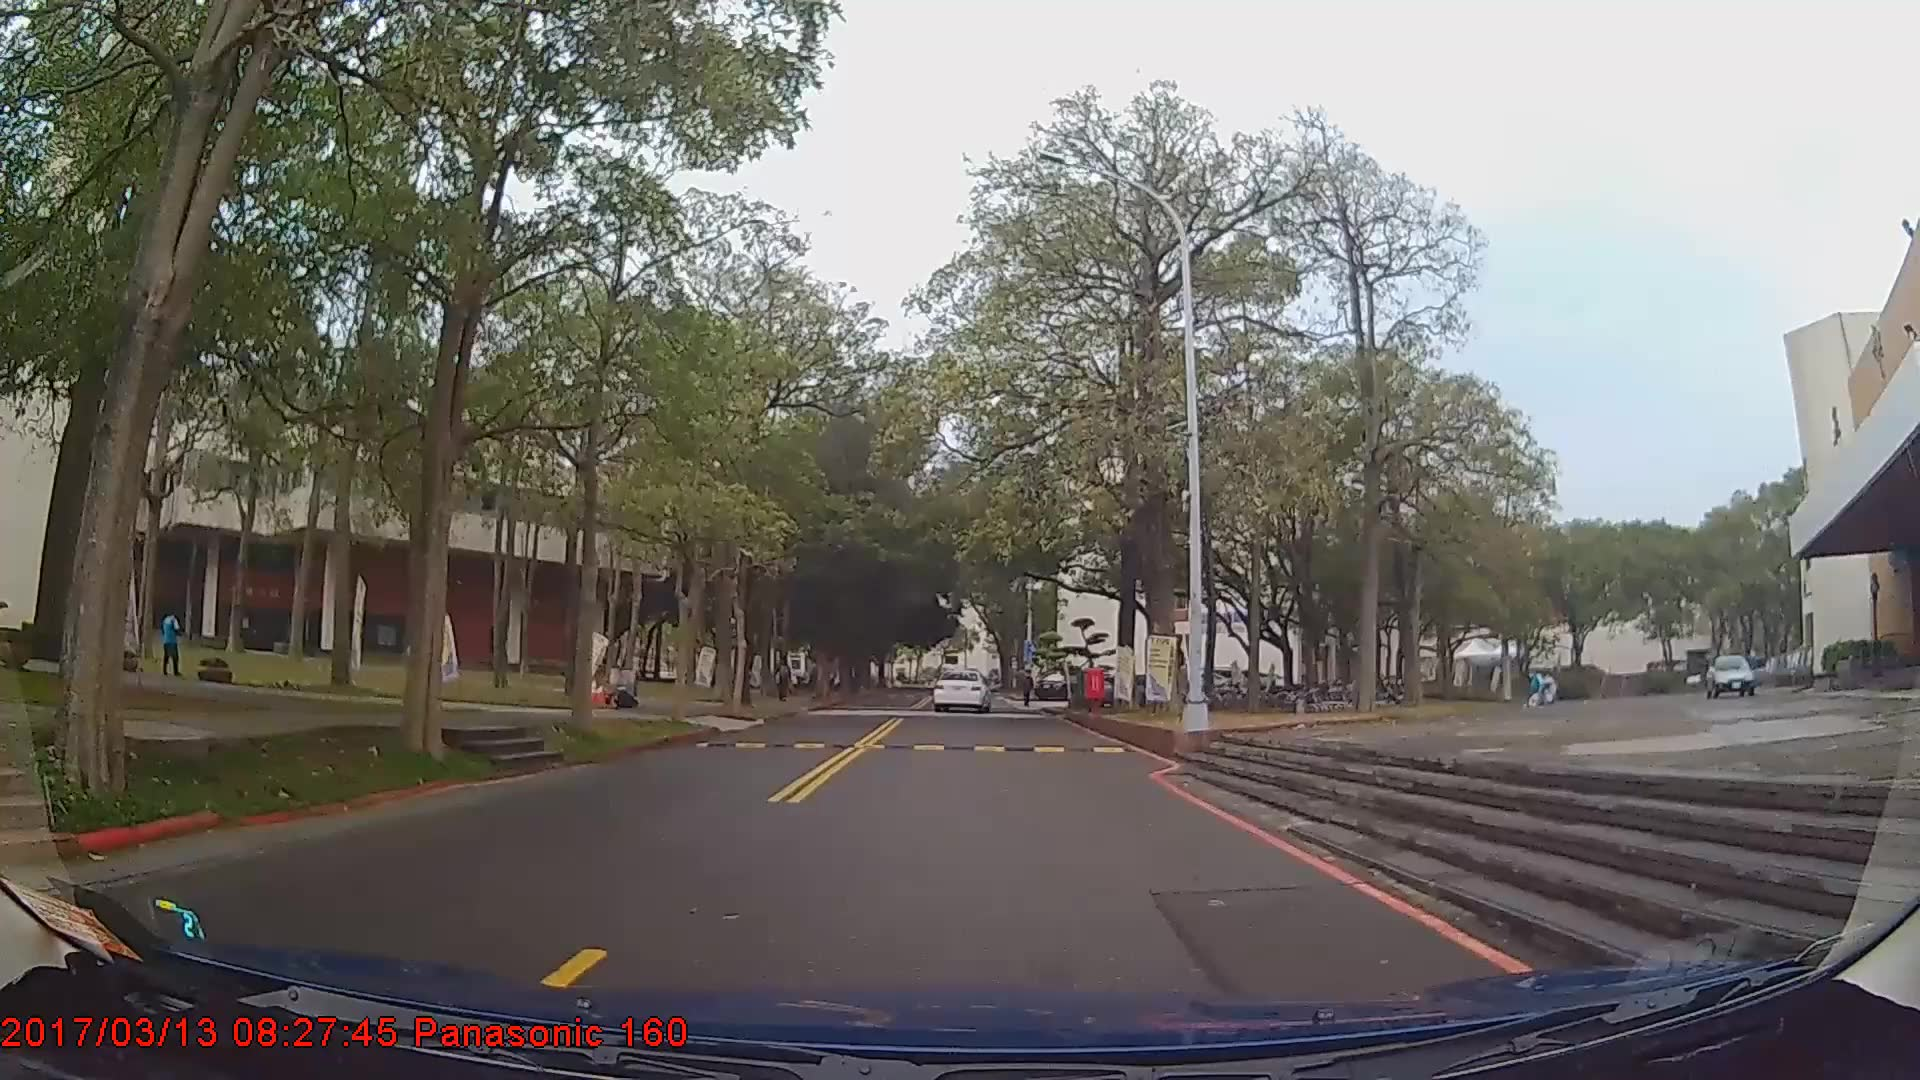pedestrian: (164, 606, 184, 679)
vehicle: (1700, 650, 1770, 699), (932, 668, 991, 713)
